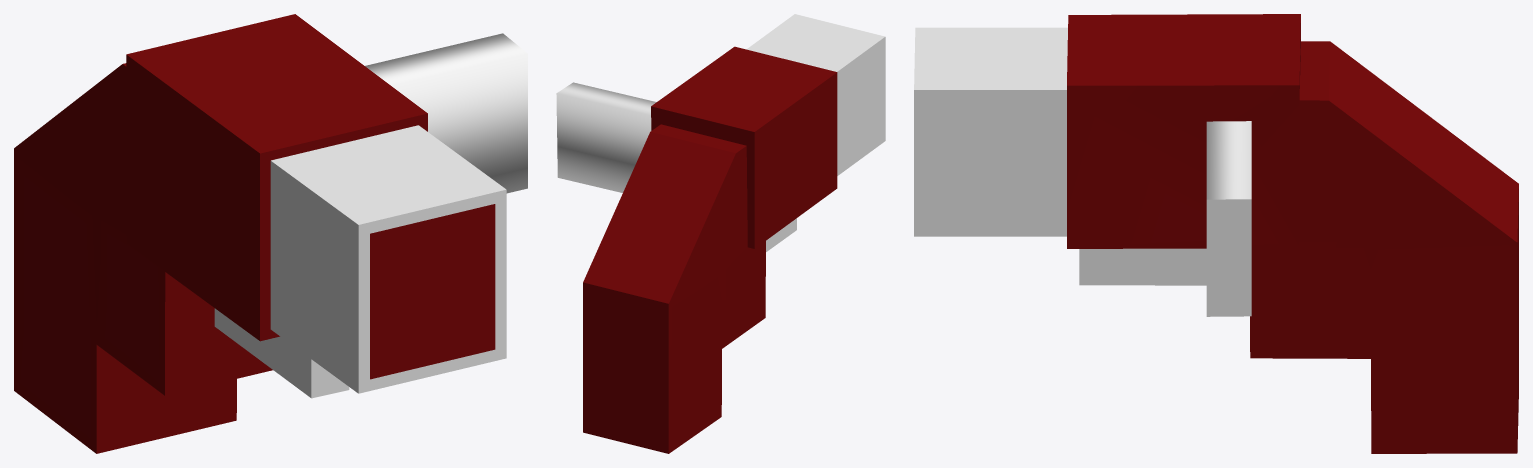
The model's file is Thermometre.fbx.
3 renders of one model, left to right at view 1: azimuth 30°, elevation 25°; view 2: azimuth 150°, elevation 25°; view 3: azimuth 270°, elevation 25°, orthographic. The views are drawn at different scales.
Parts seen in each view (by area): view 1: SA_Wep_Flaregun; view 2: SA_Wep_Flaregun; view 3: SA_Wep_Flaregun.
Boxes of the visible parts, <box> form: SA_Wep_Flaregun: <box>14,14,527,453</box>; SA_Wep_Flaregun: <box>556,14,885,453</box>; SA_Wep_Flaregun: <box>914,14,1518,453</box>.
Bounding box in the file's own units: 0.3142 × 0.3728 × 0.5437.
